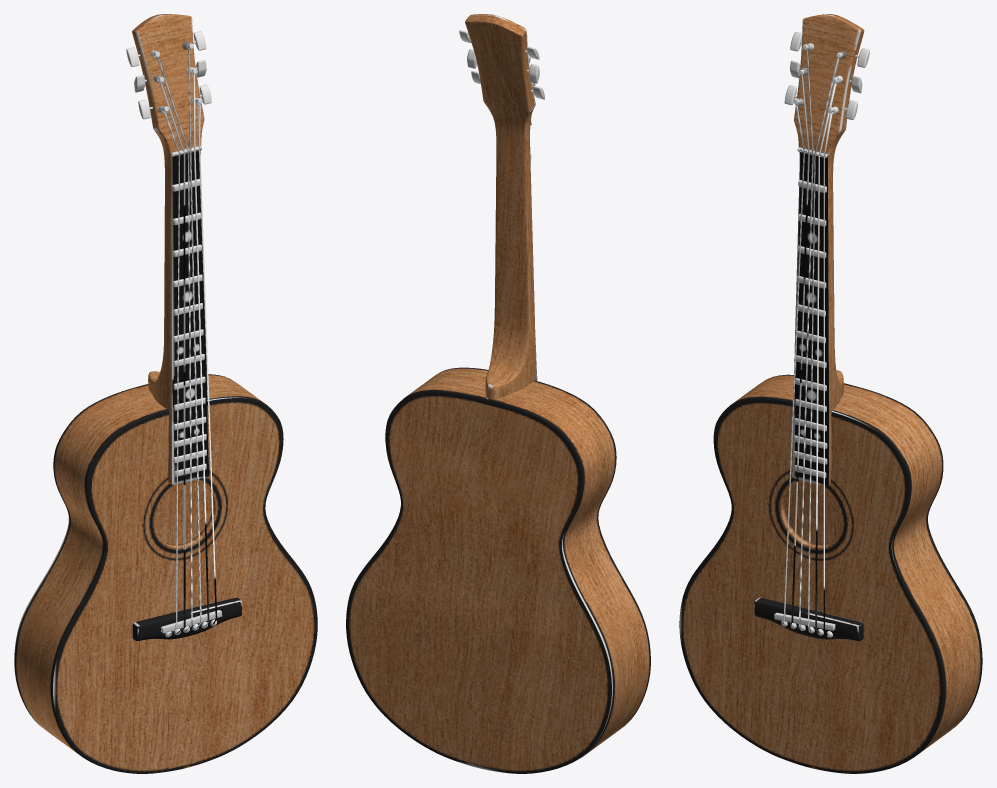
The picture shows the model from 3 angles, left to right: view 1: azimuth 30°, elevation 25°; view 2: azimuth 150°, elevation 25°; view 3: azimuth 330°, elevation 25°; orthographic projection.
Visible parts, largest first — view 1: guitar; view 2: guitar; view 3: guitar.
Part boxes in pixels (x1=…): guitar: x1=14, y1=14, x2=317, y2=773; guitar: x1=346, y1=14, x2=650, y2=773; guitar: x1=679, y1=14, x2=982, y2=773.
Bounding box in the file's own units: 0.267 × 0.7079 × 0.0849.
1 material, 1 textured.
